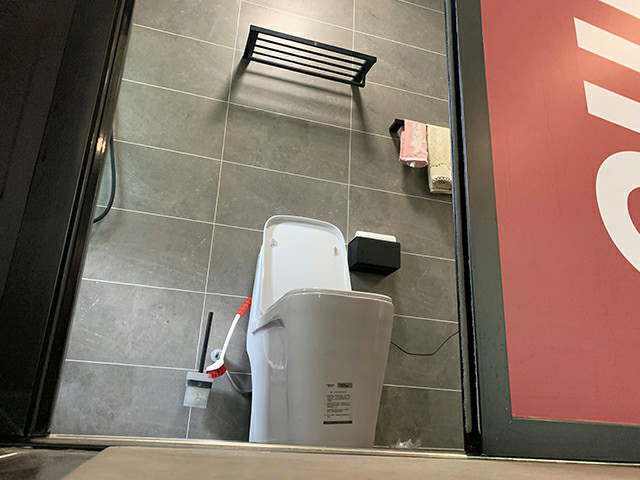closestool: (244, 214, 394, 449)
